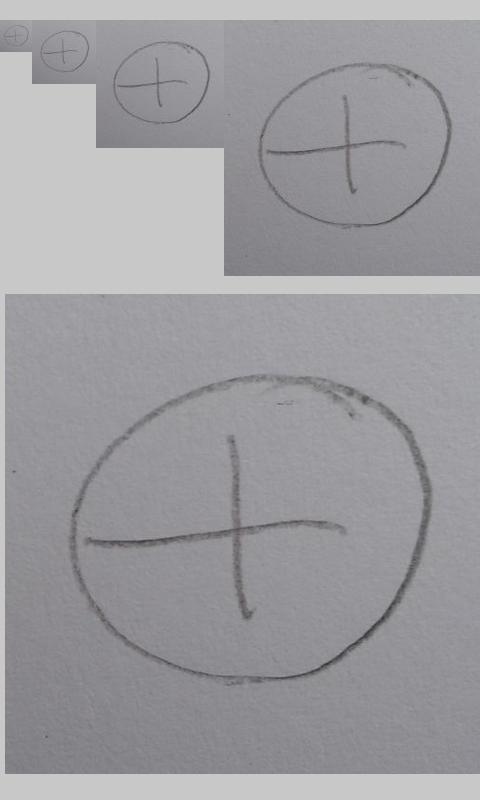button: (65, 372, 434, 684), (256, 61, 452, 228), (113, 40, 212, 124), (40, 30, 89, 73), (3, 24, 29, 47)
